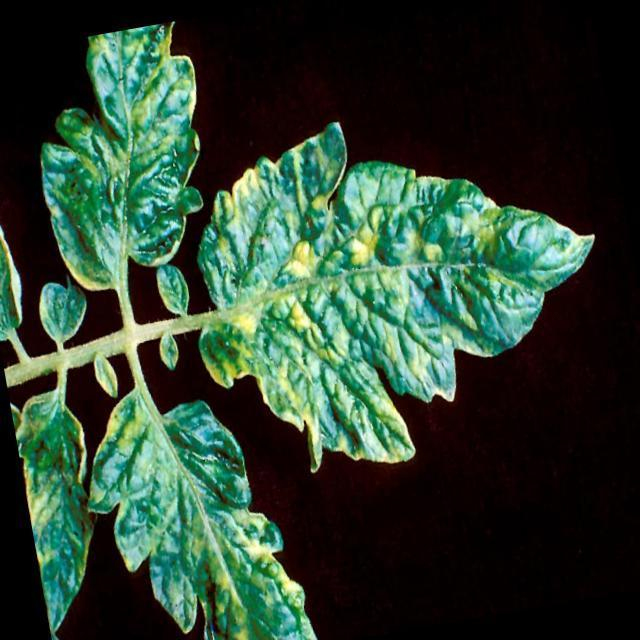Mosaic Virus: (188, 87, 620, 488), (32, 18, 235, 295), (83, 379, 298, 640), (12, 400, 112, 629), (91, 348, 122, 406), (154, 328, 187, 370)
